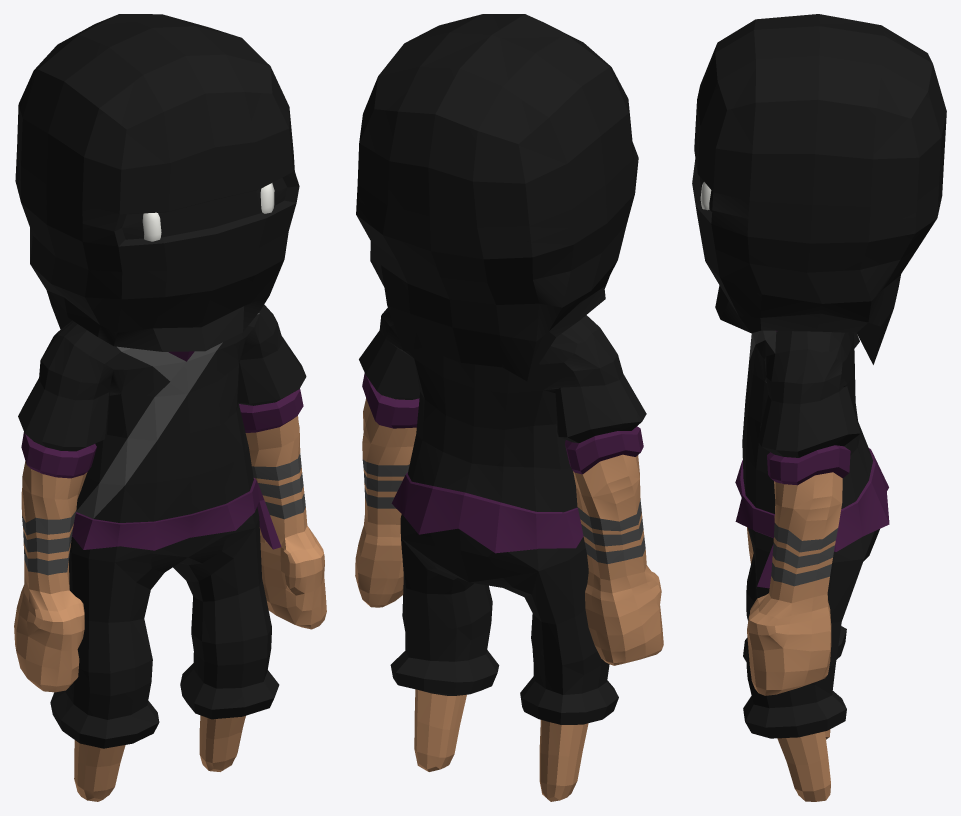
The model's file is debout-ninja-male.glb.
3 renders of one model, left to right at view 1: azimuth 30°, elevation 25°; view 2: azimuth 150°, elevation 25°; view 3: azimuth 270°, elevation 25°, orthographic.
Visible parts, largest first — view 1: Cube004_1, Cube004, Cube004_3, Cube004_2, Cube004_4; view 2: Cube004_1, Cube004, Cube004_2, Cube004_3; view 3: Cube004_1, Cube004, Cube004_2, Cube004_3.
Part boxes in pixels (x1=…): Cube004_1: x1=15, y1=14, x2=306, y2=748; Cube004: x1=14, y1=416, x2=326, y2=801; Cube004_3: x1=22, y1=313, x2=305, y2=575; Cube004_2: x1=21, y1=351, x2=303, y2=550; Cube004_4: x1=142, y1=183, x2=274, y2=241; Cube004_1: x1=356, y1=14, x2=646, y2=724; Cube004: x1=355, y1=398, x2=663, y2=801; Cube004_2: x1=362, y1=373, x2=643, y2=553; Cube004_3: x1=362, y1=459, x2=645, y2=563; Cube004_1: x1=692, y1=14, x2=946, y2=738; Cube004: x1=747, y1=472, x2=842, y2=801; Cube004_2: x1=735, y1=330, x2=889, y2=588; Cube004_3: x1=749, y1=330, x2=837, y2=586.
Bounding box in the file's own units: 0.7194 × 1.73 × 0.5375.
